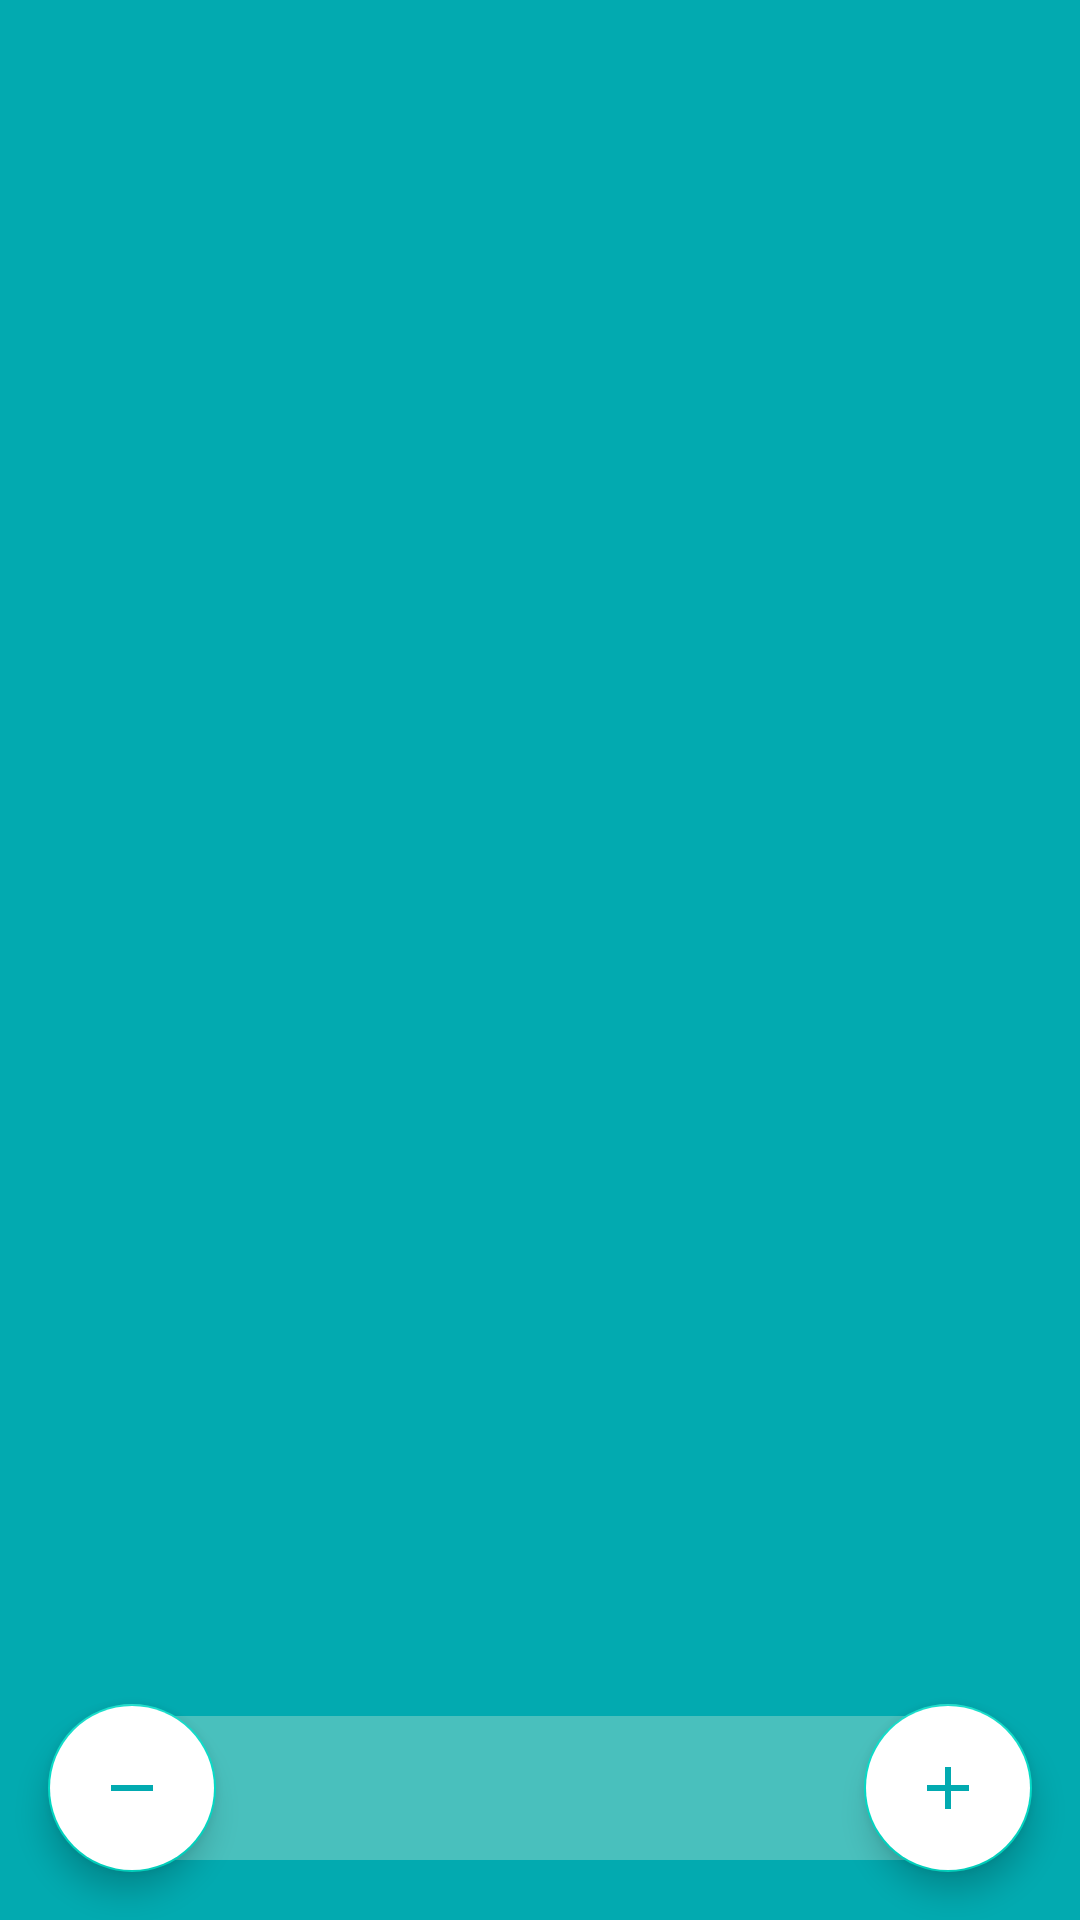

Point at icon controls on the screen. Image size 1080 × 1920, points as (x=x, y=y).
Add button: (x=948, y=1788)
Remove button: (x=132, y=1788)
